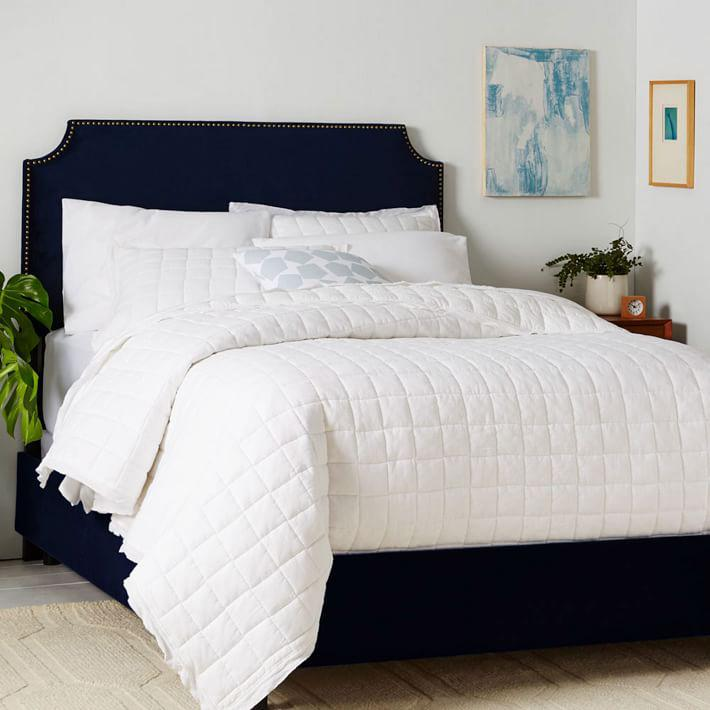bed: (13, 111, 707, 710)
